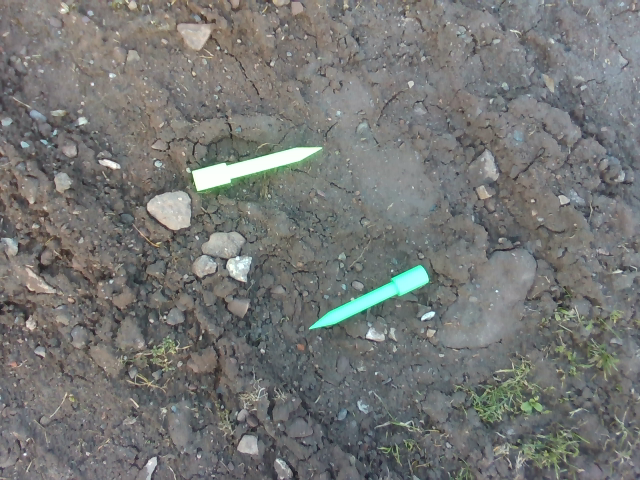Probe: (305, 262, 432, 336), (187, 140, 328, 197)
